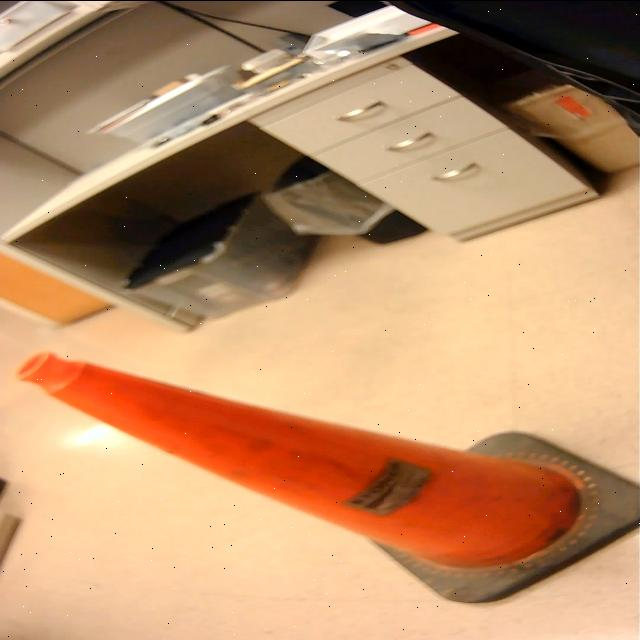traffic cone: (9, 348, 640, 610)
